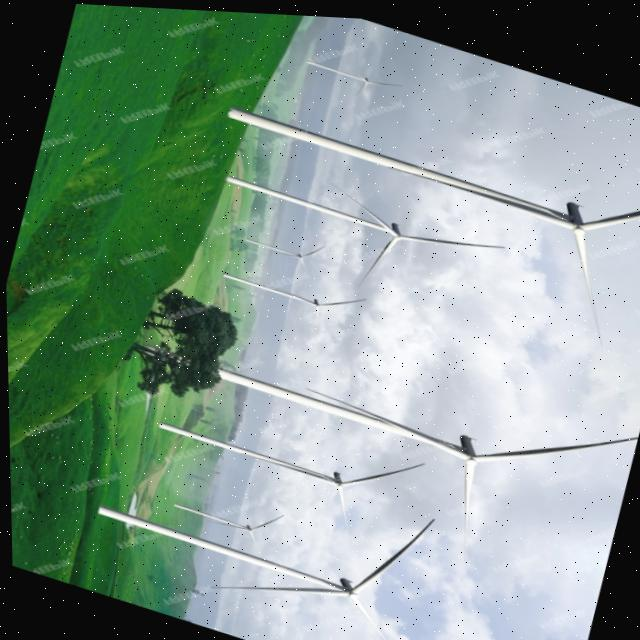solid-blade: (347, 513, 430, 589)
wind-turbine: (218, 367, 636, 541), (96, 504, 430, 640), (225, 173, 500, 282)
